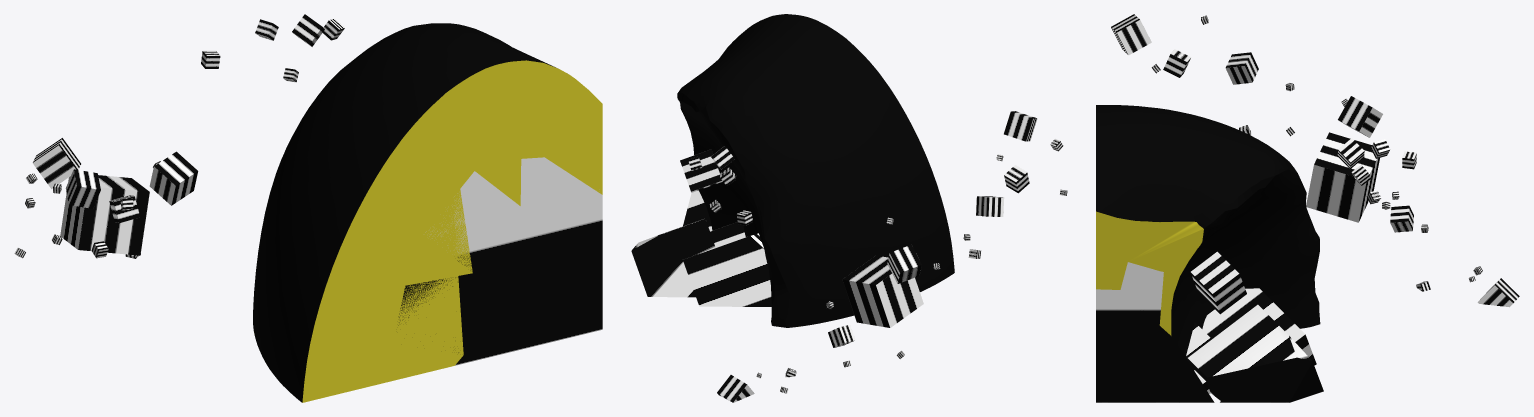
File: SM_Apple_Front_RT_2.fbx
3 views of the same model, side by side, from view 1: azimuth 30°, elevation 25°; view 2: azimuth 150°, elevation 25°; view 3: azimuth 270°, elevation 25° (orthographic). The views are drawn at different scales.
Parts seen in each view (by area): view 1: apple crater.004, geng.003; view 2: apple crater.004, geng.003; view 3: apple crater.004, geng.003.
Part boxes in pixels (left/top/right/bottom): apple crater.004: left=253, top=23, right=602, bottom=402; geng.003: left=14, top=14, right=344, bottom=258; apple crater.004: left=677, top=14, right=954, bottom=327; geng.003: left=631, top=111, right=1067, bottom=402; apple crater.004: left=1096, top=105, right=1320, bottom=402; geng.003: left=1111, top=14, right=1519, bottom=402.
Bounding box in the file's own units: 187 × 102 × 158.
